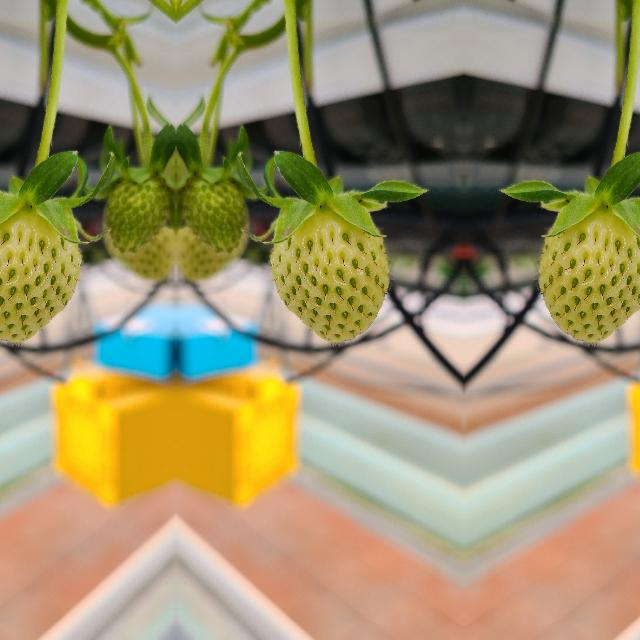Health_25: (268, 212, 388, 342), (538, 212, 640, 342), (0, 212, 81, 342), (178, 160, 250, 256), (100, 160, 172, 256)
